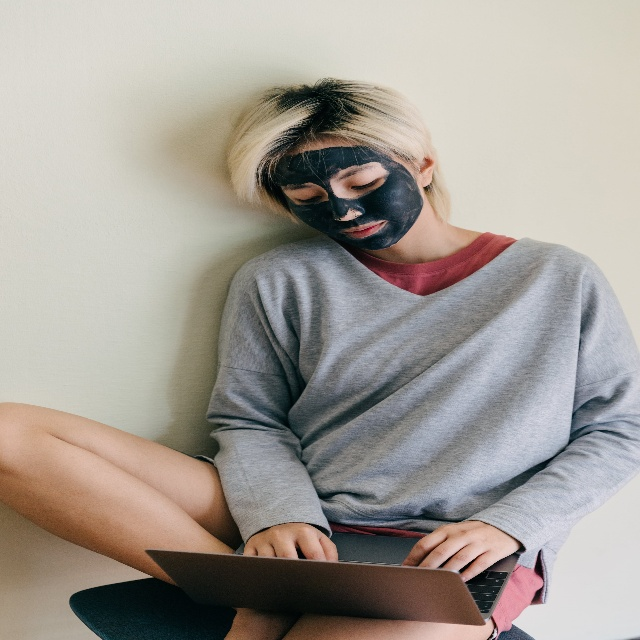Sin_guantes: (402, 518, 521, 583), (242, 521, 338, 562)
